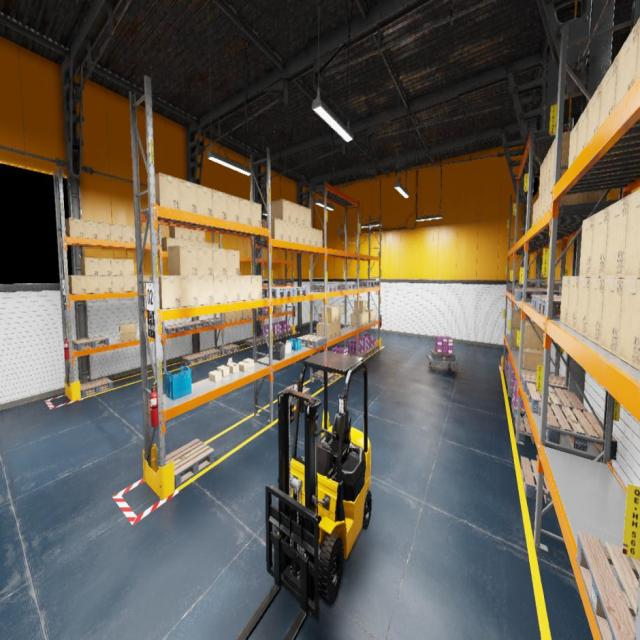box: (615, 17, 639, 108), (617, 277, 640, 371), (604, 195, 630, 278), (559, 164, 607, 205), (600, 277, 623, 358), (623, 189, 640, 277), (599, 53, 618, 129), (590, 206, 610, 276), (586, 277, 605, 347), (148, 172, 180, 210), (550, 132, 572, 181), (579, 214, 595, 277), (150, 276, 181, 308), (168, 244, 198, 276), (586, 82, 601, 145), (576, 277, 590, 338), (523, 348, 550, 374), (567, 276, 579, 332), (179, 178, 198, 213), (577, 103, 589, 157), (181, 276, 199, 307), (196, 184, 213, 216), (524, 323, 544, 350), (560, 276, 570, 326), (197, 276, 214, 305), (568, 120, 578, 168), (197, 246, 213, 276), (271, 199, 291, 222), (263, 218, 283, 240), (212, 190, 226, 220), (213, 276, 228, 304), (212, 248, 227, 276), (65, 217, 84, 238), (227, 193, 240, 222), (118, 323, 137, 342), (68, 276, 87, 294), (227, 276, 240, 302), (227, 249, 239, 276), (80, 258, 99, 275), (250, 201, 262, 227), (513, 310, 530, 328), (240, 198, 251, 225), (316, 322, 332, 340), (240, 276, 251, 300), (84, 220, 97, 239), (546, 146, 552, 187), (252, 276, 262, 300), (636, 22, 640, 81), (322, 306, 336, 322), (538, 160, 544, 197), (86, 276, 99, 293), (98, 258, 111, 275), (110, 223, 122, 241), (98, 222, 110, 240), (328, 305, 341, 321), (100, 276, 112, 293), (132, 226, 144, 243), (548, 176, 554, 209), (161, 237, 175, 251), (112, 276, 124, 292), (111, 259, 123, 275), (122, 225, 133, 242), (542, 154, 547, 191), (540, 187, 546, 217), (227, 358, 239, 373), (123, 276, 135, 291), (290, 202, 298, 224), (123, 259, 134, 275), (170, 226, 183, 239), (283, 220, 291, 241), (544, 182, 549, 214), (209, 370, 222, 382), (354, 300, 366, 313), (351, 313, 362, 327), (298, 204, 305, 226), (134, 276, 145, 290), (520, 320, 535, 330), (291, 222, 298, 243), (217, 365, 230, 376), (298, 224, 305, 244), (512, 328, 519, 347), (366, 309, 376, 322), (305, 207, 311, 227), (220, 312, 232, 322), (311, 227, 317, 246), (305, 226, 311, 245), (538, 192, 542, 220), (358, 312, 366, 326), (243, 358, 254, 368), (238, 362, 249, 372), (534, 198, 538, 224), (317, 230, 323, 247), (273, 304, 283, 314), (532, 202, 536, 226), (144, 228, 150, 244), (183, 228, 191, 240), (242, 309, 250, 319), (198, 231, 206, 241), (336, 321, 341, 336), (231, 310, 237, 322), (191, 230, 198, 240), (332, 322, 336, 338), (145, 276, 149, 290), (237, 310, 242, 320), (191, 240, 199, 246), (175, 238, 183, 244), (248, 309, 252, 319), (198, 241, 206, 246), (183, 240, 191, 245), (212, 242, 218, 248), (206, 242, 212, 247), (366, 312, 368, 324), (519, 347, 520, 364), (256, 308, 258, 316)
forklift: (274, 350, 372, 605)
pallets: (576, 530, 640, 639), (538, 401, 617, 460), (158, 438, 214, 488), (526, 382, 587, 421), (520, 456, 554, 507), (520, 370, 569, 396), (279, 383, 311, 406), (80, 377, 112, 397), (515, 414, 535, 445), (514, 289, 559, 301), (72, 336, 110, 350), (537, 298, 561, 318), (531, 295, 561, 311), (297, 334, 327, 349), (511, 397, 528, 419), (274, 286, 308, 296), (314, 371, 340, 384), (516, 288, 548, 298), (262, 288, 293, 298), (181, 353, 206, 365), (431, 349, 455, 361), (162, 324, 188, 334), (199, 348, 221, 359), (180, 321, 205, 330), (516, 288, 544, 296), (218, 344, 240, 354), (508, 283, 534, 291), (313, 284, 338, 292), (199, 318, 222, 326), (506, 282, 528, 290), (244, 338, 263, 346), (348, 352, 367, 359), (258, 335, 275, 342), (355, 281, 374, 287), (327, 284, 346, 290), (340, 283, 356, 290), (508, 379, 514, 396), (258, 310, 274, 316), (273, 332, 285, 339), (364, 348, 373, 357), (370, 344, 379, 352), (267, 280, 284, 284), (282, 330, 292, 336), (368, 281, 379, 286), (281, 280, 292, 283), (504, 365, 506, 377), (506, 372, 508, 384)
